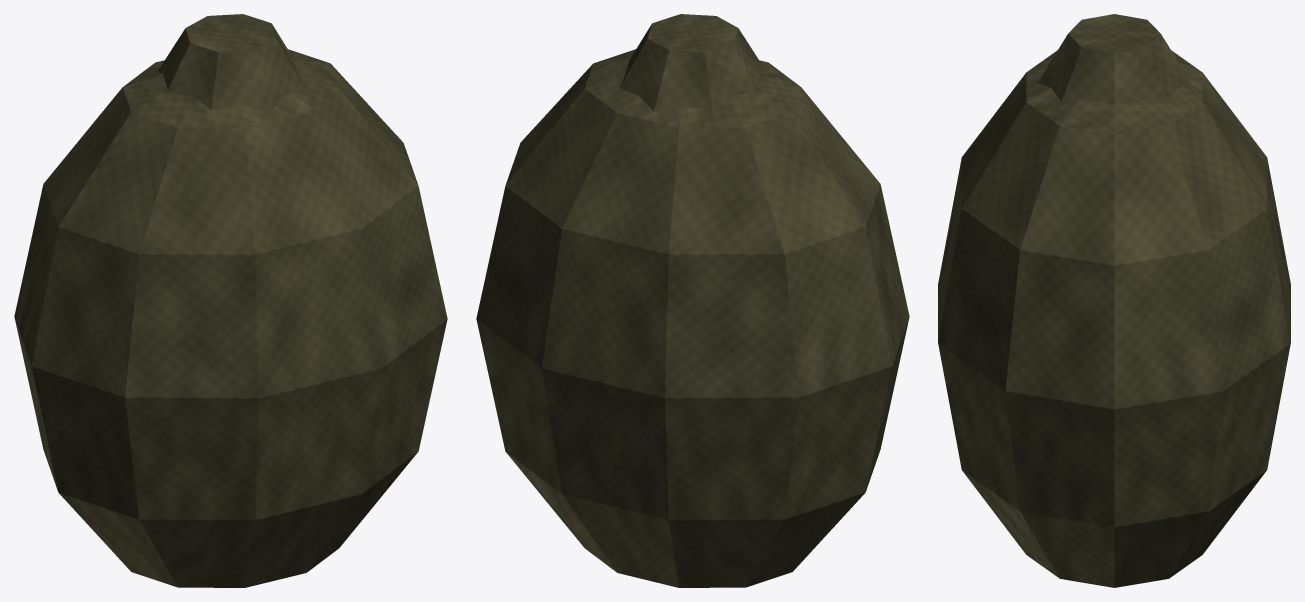
The model's file is Sack.glb.
The picture shows the model from 3 angles, left to right: view 1: azimuth 30°, elevation 25°; view 2: azimuth 150°, elevation 25°; view 3: azimuth 270°, elevation 25°; orthographic projection.
Visible parts, largest first — view 1: Sack; view 2: Sack; view 3: Sack.
Boxes of the visible parts, x1,y1,x2,y2 form: Sack: (14,14,447,587); Sack: (476,14,909,587); Sack: (938,14,1290,587).
Bounding box in the file's own units: 0.44 × 0.58 × 0.3424.
Materials: 1 (1 with a texture image).
